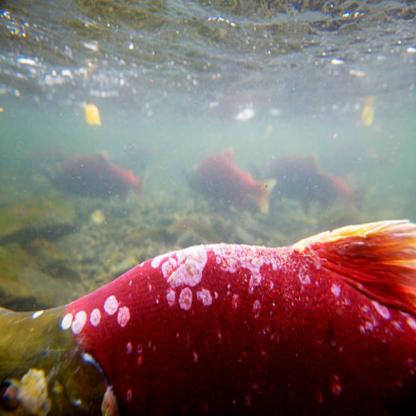sockeye: (6, 215, 416, 396)
